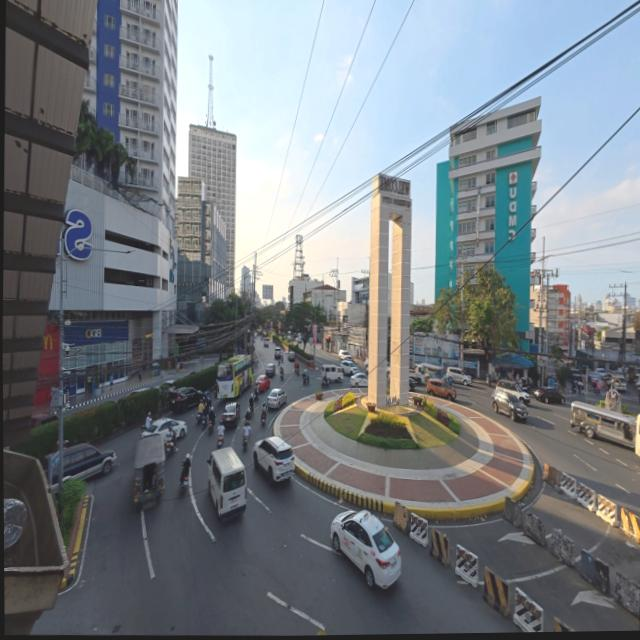Jeepneys: (570, 402, 635, 448), (133, 435, 164, 508)
bus: (217, 354, 253, 398), (635, 412, 640, 466)
car: (330, 511, 399, 588), (62, 443, 115, 480), (252, 437, 294, 481), (490, 389, 527, 421), (140, 418, 186, 440), (495, 380, 529, 405), (169, 387, 202, 412), (426, 377, 456, 400), (533, 387, 564, 404), (221, 403, 239, 427), (446, 368, 471, 385), (31, 413, 57, 428), (266, 389, 285, 409), (340, 360, 357, 375), (350, 373, 367, 387), (255, 375, 269, 391), (126, 387, 150, 396), (155, 379, 174, 390), (338, 350, 352, 361), (264, 364, 275, 378), (594, 368, 606, 377), (408, 376, 415, 391), (274, 347, 282, 359), (296, 333, 304, 344), (385, 364, 390, 379), (364, 358, 368, 375), (288, 352, 294, 361), (263, 340, 268, 347), (253, 332, 257, 337)
motorcycle: (164, 438, 176, 456), (485, 374, 497, 387), (180, 477, 188, 495), (320, 377, 329, 388), (248, 398, 253, 415), (216, 435, 222, 449), (196, 411, 202, 424), (253, 387, 259, 400), (301, 374, 308, 385), (260, 409, 265, 424), (241, 434, 246, 449), (294, 362, 299, 376), (207, 423, 213, 434), (202, 415, 207, 428), (279, 368, 283, 380), (638, 395, 639, 404)
vans: (206, 448, 246, 518), (321, 364, 343, 382), (608, 377, 625, 392)
